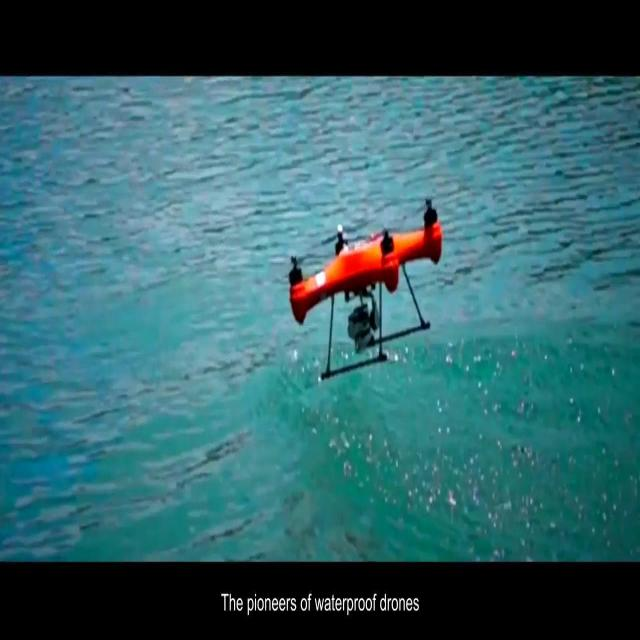UAV: (274, 199, 442, 381)
